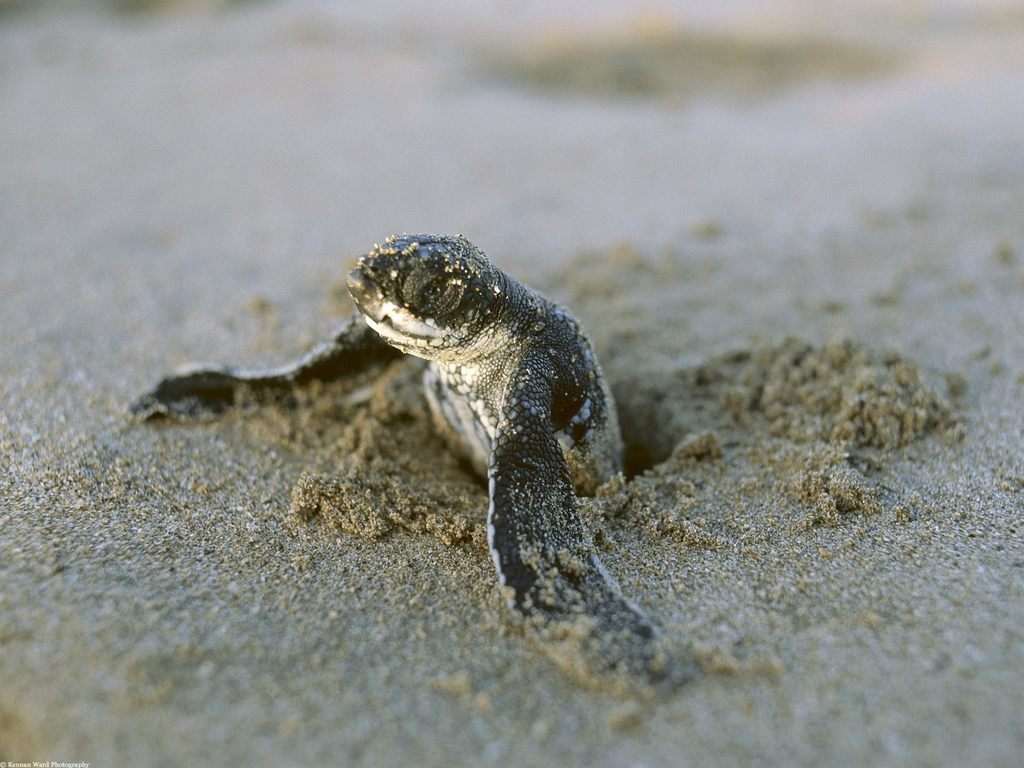Sea turtles: (122, 229, 683, 694)
